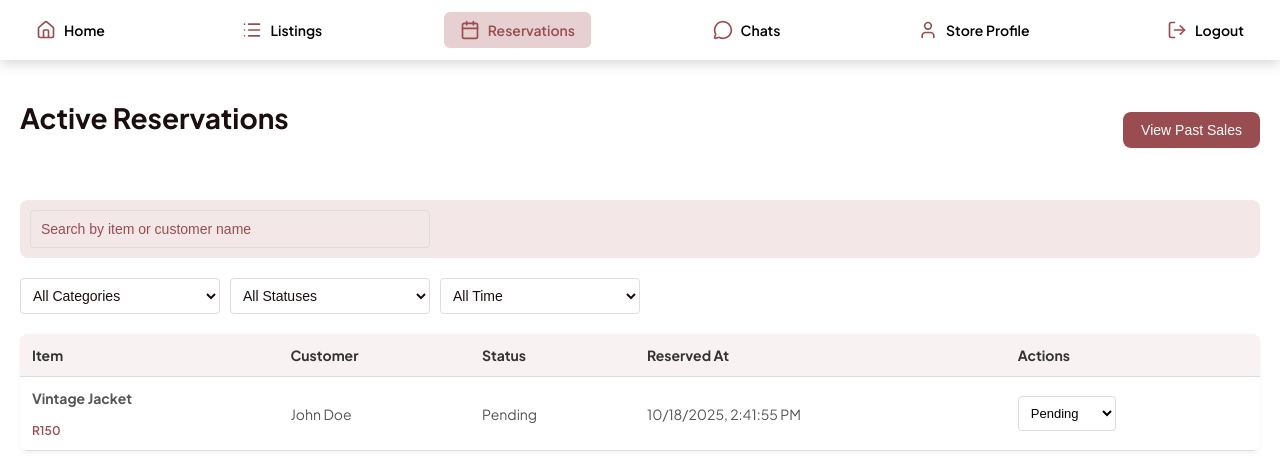
Test: StoreReservations › Reservations Rendering › switches between active and sales view
Expected: the heading "Active Reservations" is shown, [20,100,289,135]
Click the button "View Past Sales": {"x": 1192, "y": 130} [1123,112,1260,148]
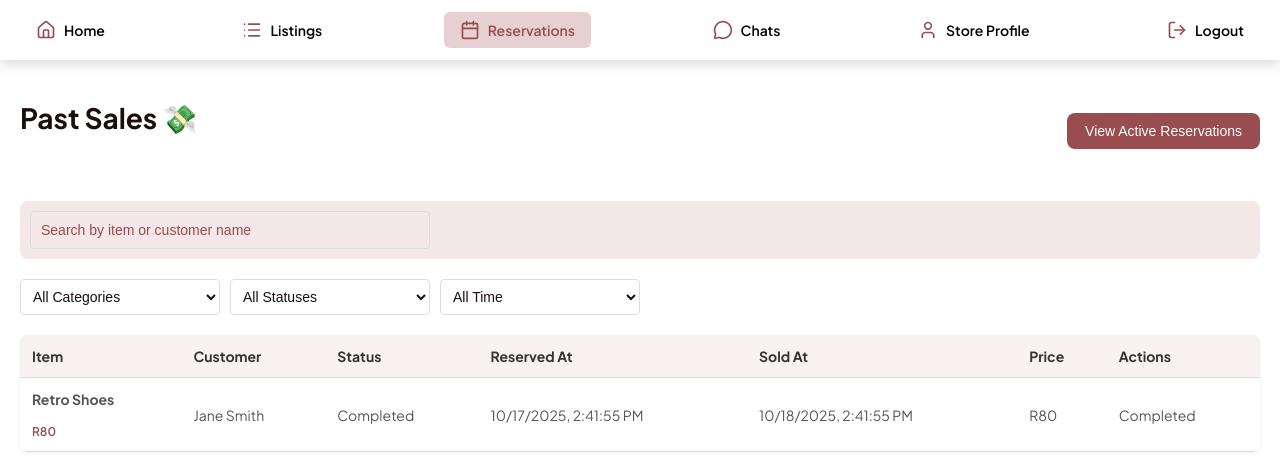
Expected: the heading "Past Sales 💸" is shown, [20,100,197,136]
Expected: the button "View Active Reservations" is shown, [1067,112,1260,148]
Expected: the text "Jane Smith" is shown, [181,378,325,452]
